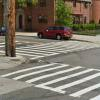Crosswalk: (23, 54, 97, 100)
